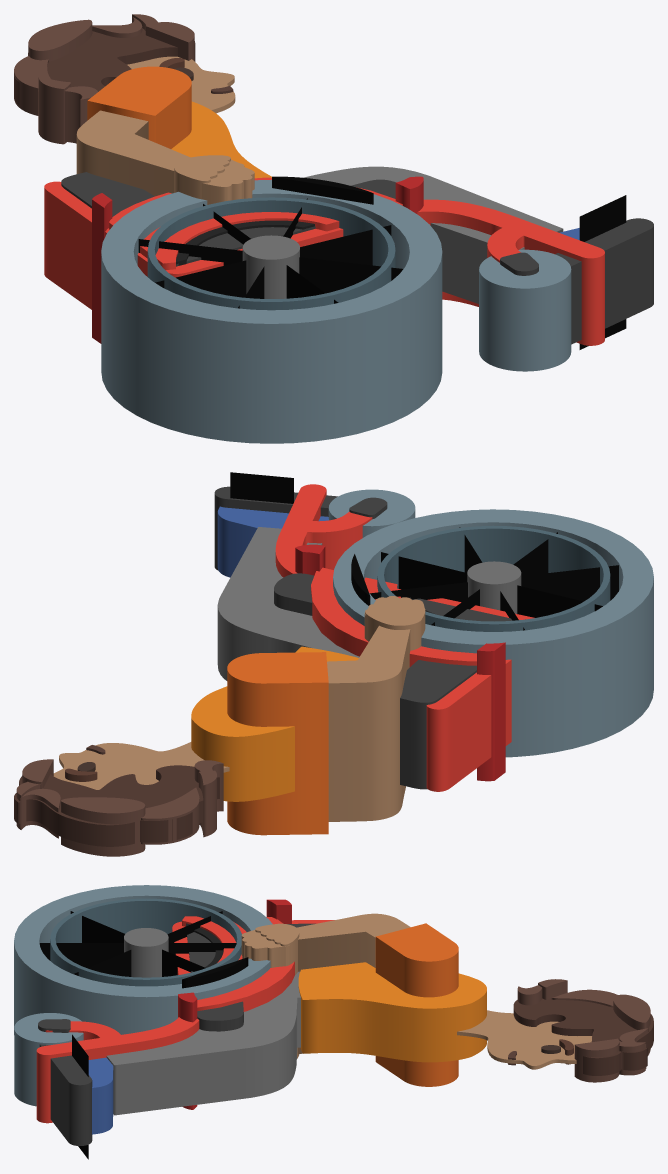
Rendered from emoji_u1f9d1_1f3fd_200d_1f9bd_200d_27a1.glb.
3 renders of one model, top to bottom at view 1: azimuth 30°, elevation 25°; view 2: azimuth 150°, elevation 25°; view 3: azimuth 270°, elevation 25°, orthographic. The views are drawn at different scales.
Parts seen in each view (by area): view 1: emoji_u1f9d1_1f3fd_200d_1f9bd_200d_27a1; view 2: emoji_u1f9d1_1f3fd_200d_1f9bd_200d_27a1; view 3: emoji_u1f9d1_1f3fd_200d_1f9bd_200d_27a1.
Boxes of the visible parts, bbox=[...] form: emoji_u1f9d1_1f3fd_200d_1f9bd_200d_27a1: bbox=[14, 14, 653, 443]; emoji_u1f9d1_1f3fd_200d_1f9bd_200d_27a1: bbox=[14, 472, 653, 856]; emoji_u1f9d1_1f3fd_200d_1f9bd_200d_27a1: bbox=[14, 885, 653, 1159].
Bounding box in the file's own units: 0.022 × 0.007 × 0.0324.
